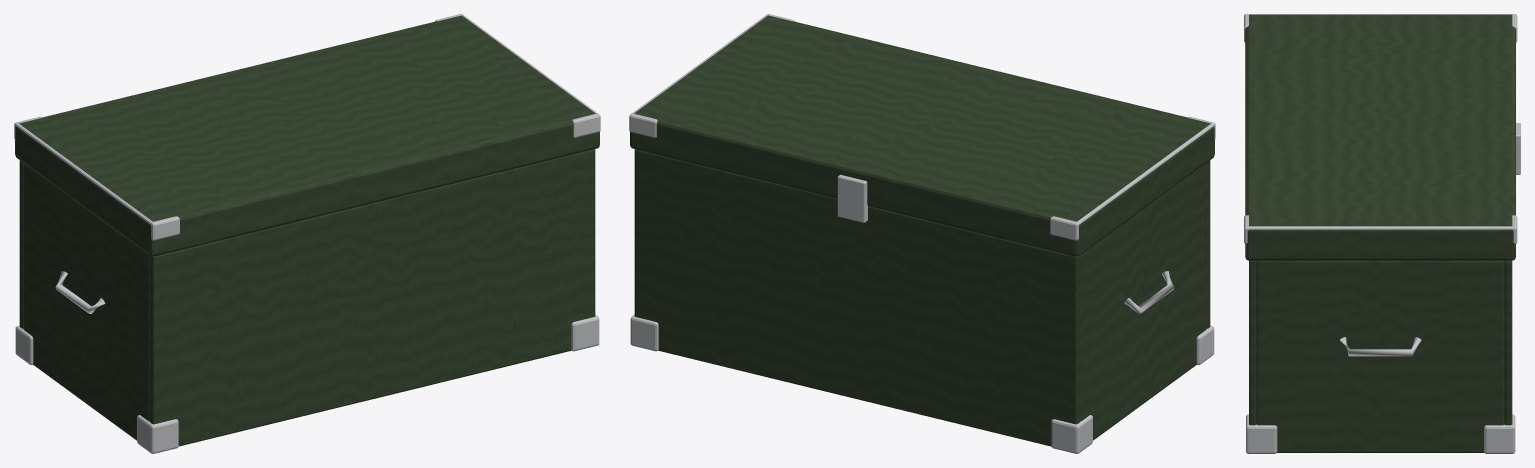
Rendered from lootbox_footlocker.glb.
3 views of the same model, side by side, from view 1: azimuth 30°, elevation 25°; view 2: azimuth 150°, elevation 25°; view 3: azimuth 270°, elevation 25° (orthographic). The views are drawn at different scales.
Visible parts, largest first — view 1: trunk_back, lid, trunk_left, trunk_floor, lidcorner-1, corner-1-1, lidcorner1, corner1-1, trunk_front, corner-11; view 2: trunk_front, lid, trunk_left, trunk_floor, lidcorner-1, hasp, corner-11, lidcorner1, corner11, trunk_back, corner-1-1; view 3: lid, trunk_right, trunk_front, lidcorner1, trunk_back, corner11, corner1-1, handle1, lidcorner-1, trunk_floor.
Boxes of the visible parts, box(x1,y1,x2,y2) form: trunk_back: box(150, 149, 595, 446); lid: box(15, 15, 599, 256); trunk_left: box(23, 163, 149, 439); trunk_floor: box(33, 346, 571, 445); lidcorner-1: box(14, 116, 179, 240); corner-1-1: box(137, 415, 178, 453); lidcorner1: box(435, 14, 600, 137); corner1-1: box(571, 315, 599, 351); trunk_front: box(19, 160, 23, 328); corner-11: box(15, 325, 33, 364); trunk_front: box(634, 149, 1079, 444); lid: box(630, 15, 1214, 256); trunk_left: box(1080, 163, 1206, 439); trunk_floor: box(658, 346, 1196, 446); lidcorner-1: box(1050, 116, 1215, 240); hasp: box(837, 174, 867, 222); corner-11: box(1051, 415, 1092, 453); lidcorner1: box(629, 14, 794, 137); corner11: box(630, 315, 658, 351); trunk_back: box(1206, 160, 1210, 328); corner-1-1: box(1196, 325, 1214, 364); lid: box(1245, 14, 1515, 260); trunk_right: box(1256, 260, 1504, 452); trunk_front: box(1504, 260, 1512, 425); lidcorner1: box(1244, 215, 1517, 243); trunk_back: box(1249, 260, 1256, 425); corner11: box(1484, 414, 1515, 453); corner1-1: box(1246, 414, 1277, 453); handle1: box(1339, 337, 1421, 356); lidcorner-1: box(1244, 14, 1517, 42); trunk_floor: box(1277, 448, 1484, 452).
Size of the model in its own units: 0.8519 by 0.4 by 0.442.
Materials: 2 (1 with a texture image).
